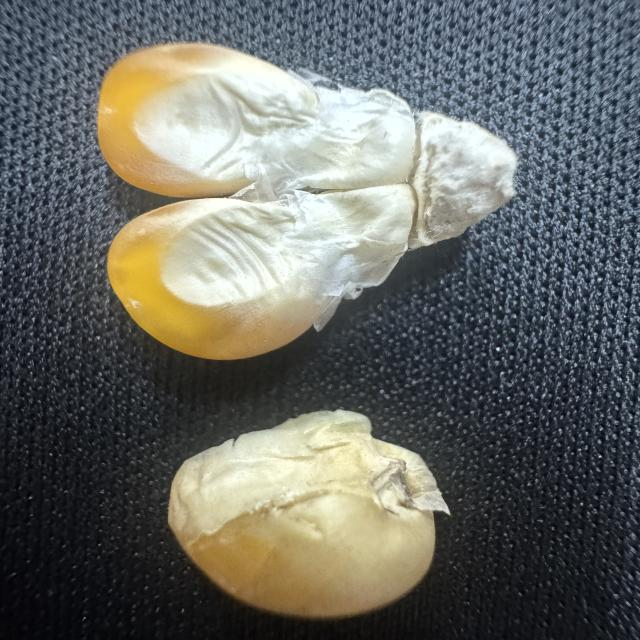Bad-Seed: (76, 26, 532, 368), (157, 403, 460, 625)
